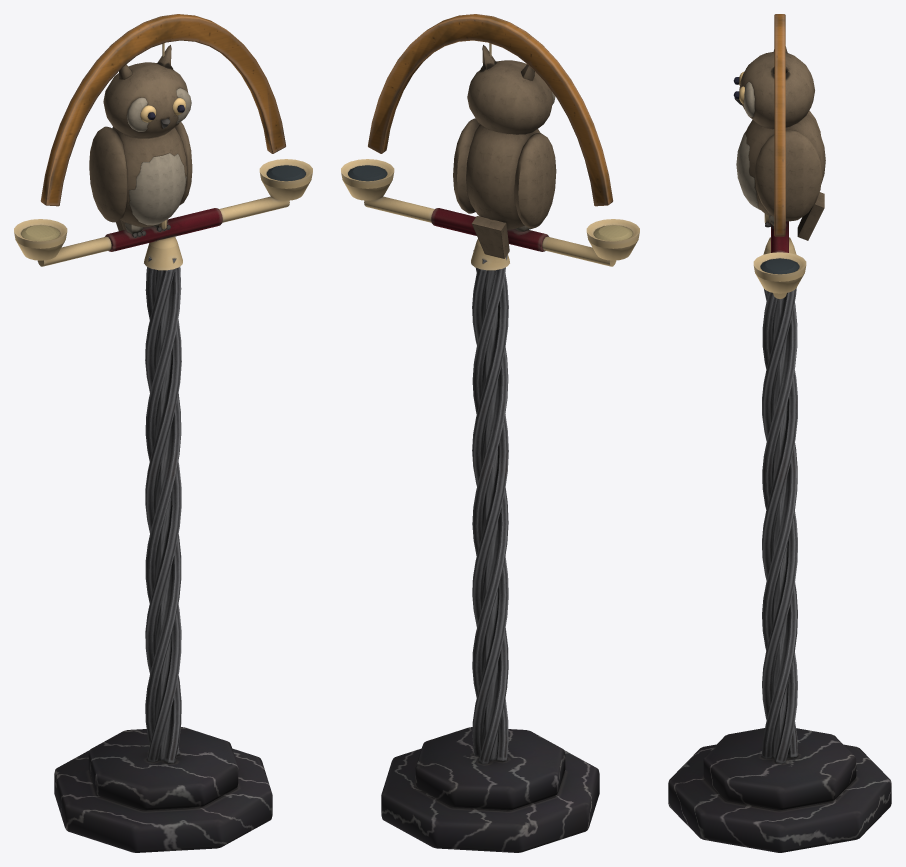
File: FamiliarPerch.fbx
The picture shows the model from 3 angles, left to right: view 1: azimuth 30°, elevation 25°; view 2: azimuth 150°, elevation 25°; view 3: azimuth 270°, elevation 25°; orthographic projection.
Parts seen in each view (by area): view 1: FamiliarPerch_Main; view 2: FamiliarPerch_Main; view 3: FamiliarPerch_Main.
Boxes of the visible parts, x1,y1,x2,y2 form: FamiliarPerch_Main: (14, 14, 312, 852); FamiliarPerch_Main: (341, 14, 639, 852); FamiliarPerch_Main: (668, 14, 891, 852).
Bounding box in the file's own units: 238 × 615 × 159.
